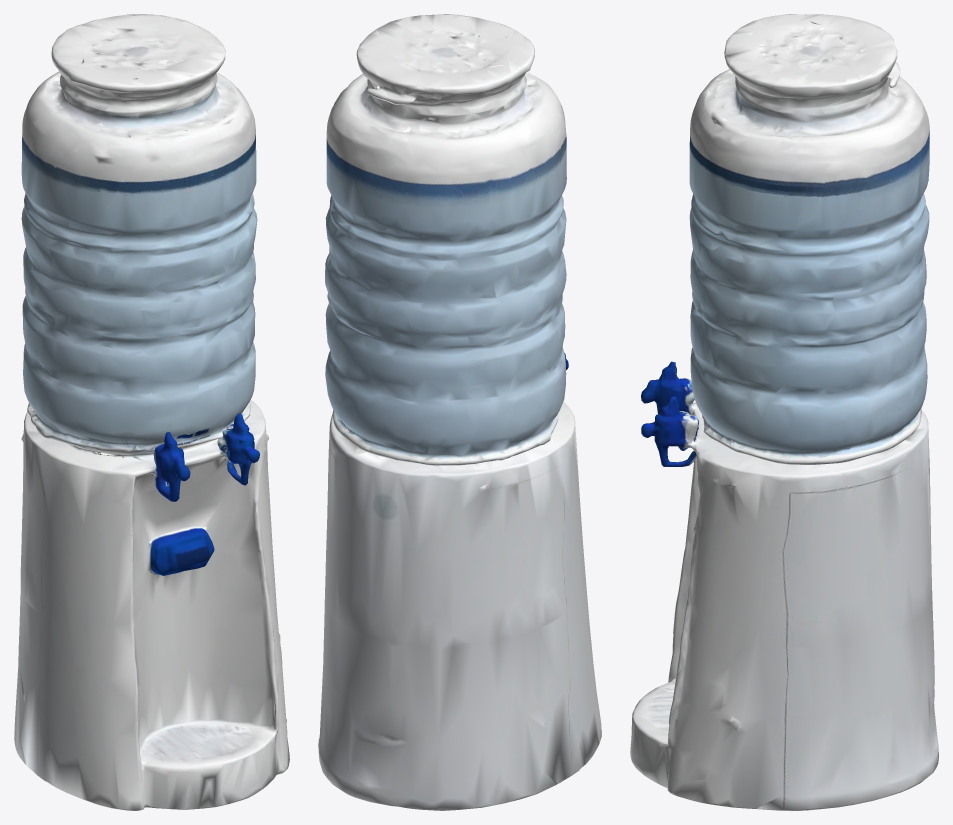
Rendered from water_cooler.glb.
The picture shows the model from 3 angles, left to right: view 1: azimuth 30°, elevation 25°; view 2: azimuth 150°, elevation 25°; view 3: azimuth 270°, elevation 25°; orthographic projection. The views are drawn at different scales.
Bounding box in the file's own units: 0.6885 × 2.01 × 0.7969.
Materials: 1 (1 with a texture image).
